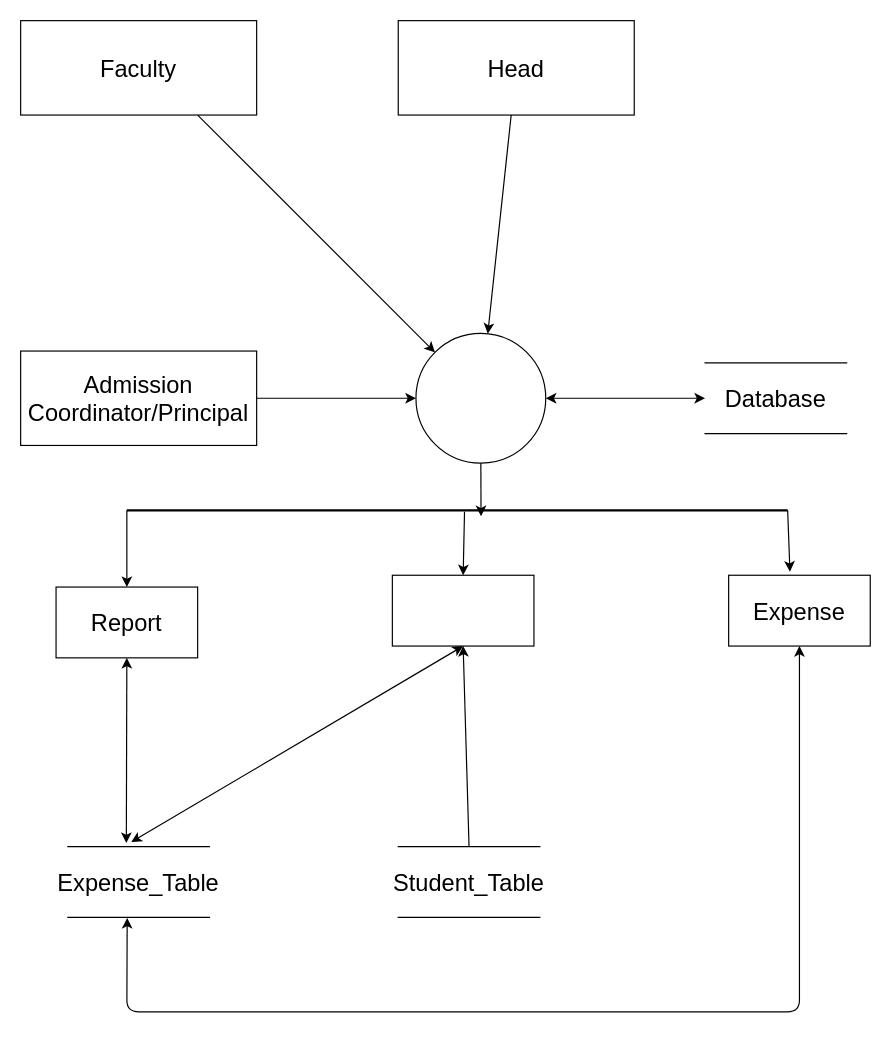
This 891x1043 diagram has some shape labels left out. The shapes that lost their labels are listed below. From the top down, each one's centre as x and y in pixels, then its label:
At pixel 480 397: "Login".
At pixel 462 610: "Admission".
